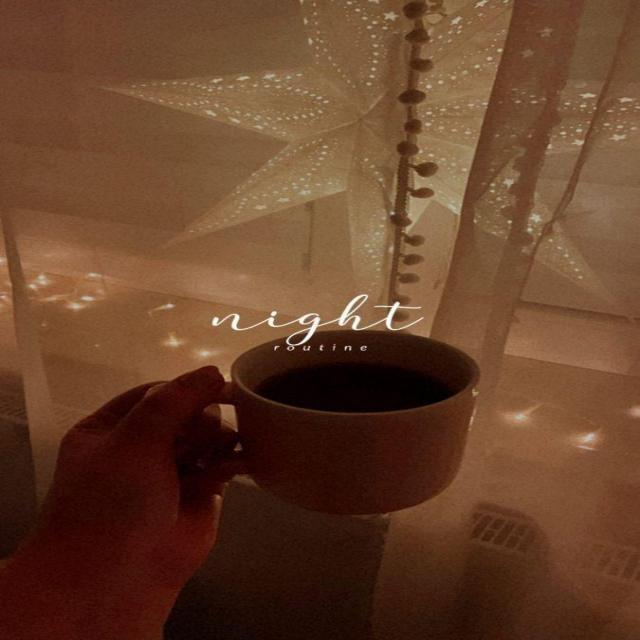cup-handle: (150, 329, 482, 517)
